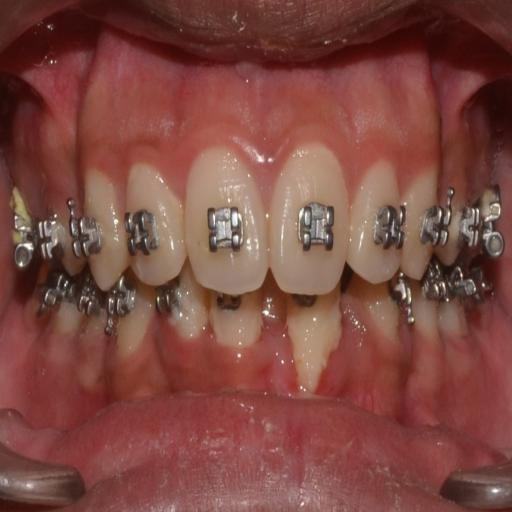correct_brace: (199, 196, 244, 257), (300, 184, 336, 260), (120, 198, 165, 255), (369, 194, 405, 260)
incorrect_brace: (120, 151, 181, 292), (346, 150, 406, 284)
